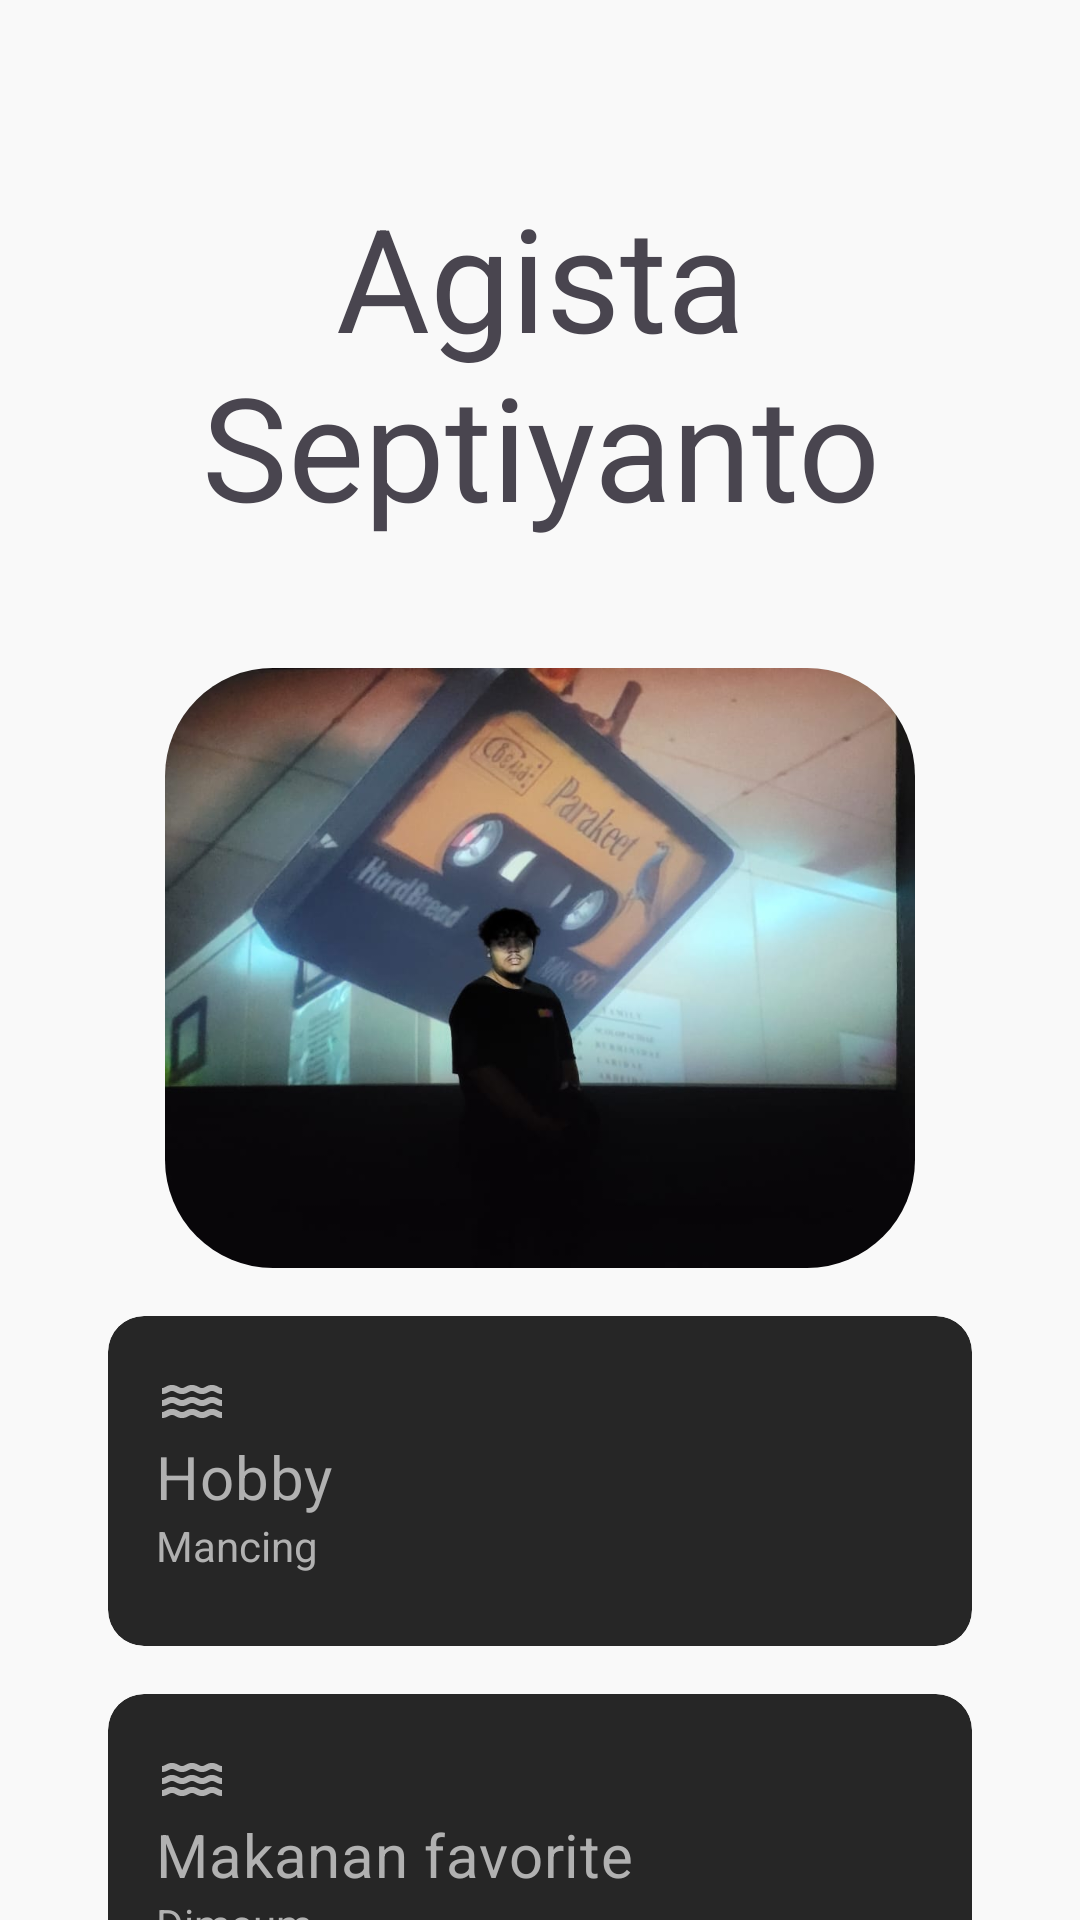

Named icons in this screenshot (1080x1920) and their centers, (x,y):
water: (192,1401), (192,1779)
